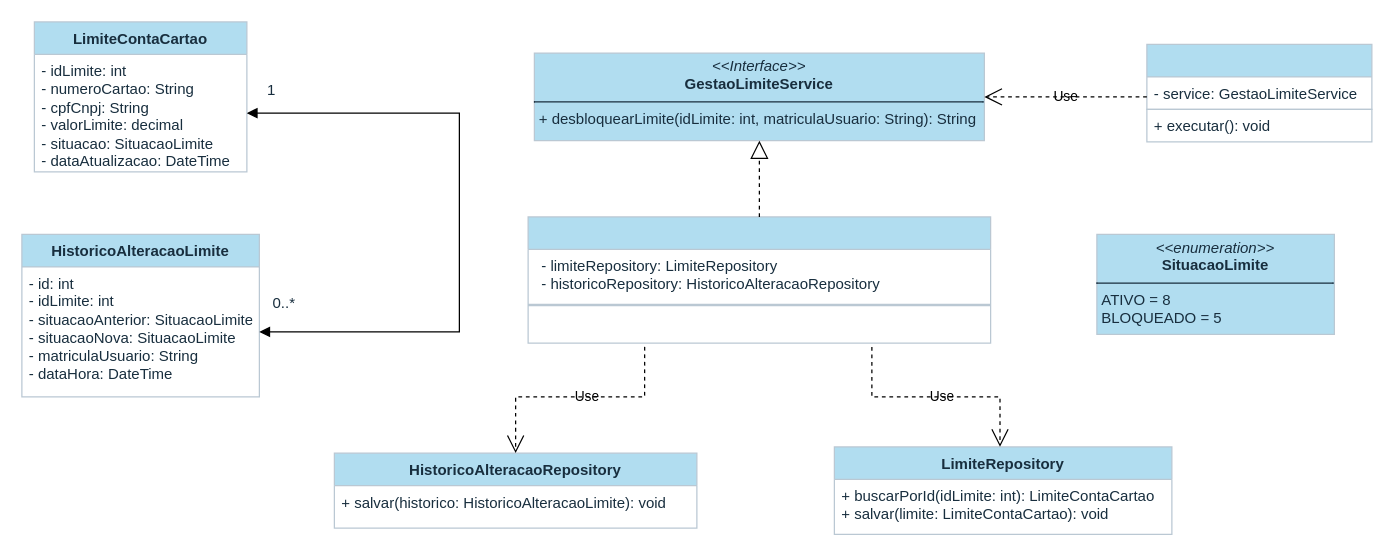
Image size: 1394x560. Some labels were removed from this diagram. Here are the shapes that lost their labels. From the top down, the box of each, then its label:
(1146, 43, 1372, 109): GestaoLimiteController
(527, 216, 991, 304): GestaoLimiteServiceImpl
(527, 304, 991, 343): + desbloquearLimite(idLimite: int, matriculaUsuario: String): String
